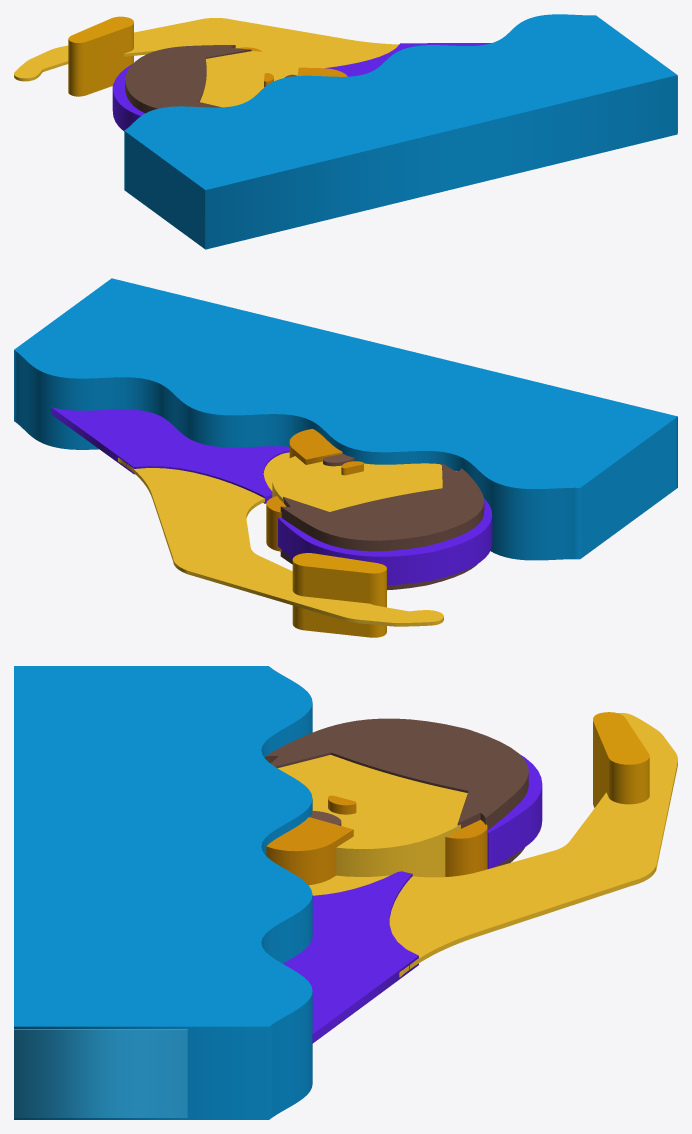
File: emoji_u1f3ca_200d_2640.glb
3 views of the same model, one above another, from view 1: azimuth 30°, elevation 25°; view 2: azimuth 150°, elevation 25°; view 3: azimuth 270°, elevation 25° (orthographic). The views are drawn at different scales.
Visible parts, largest first — view 1: emoji_u1f3ca_200d_2640; view 2: emoji_u1f3ca_200d_2640; view 3: emoji_u1f3ca_200d_2640.
Part boxes in pixels (left/top/right/bottom): emoji_u1f3ca_200d_2640: left=14, top=14, right=677, bottom=249; emoji_u1f3ca_200d_2640: left=14, top=278, right=677, bottom=637; emoji_u1f3ca_200d_2640: left=14, top=666, right=677, bottom=1119.
Bounding box in the file's own units: 0.0333 × 0.004 × 0.0258.
